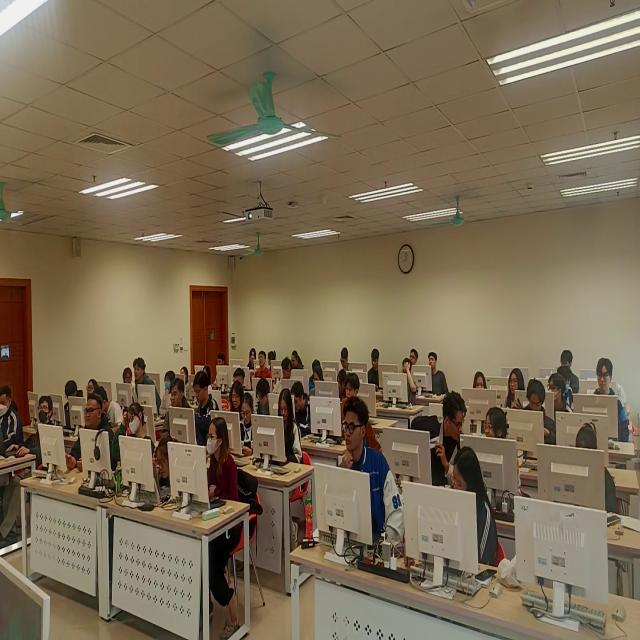raise_hand: (112, 402, 157, 490), (400, 358, 420, 412)
raise_head: (338, 397, 405, 558), (67, 393, 115, 483), (205, 417, 240, 520), (20, 393, 63, 474), (594, 358, 629, 441), (549, 373, 578, 417), (428, 352, 450, 397), (506, 369, 527, 413), (255, 351, 271, 383), (473, 371, 488, 400), (86, 375, 102, 398), (247, 347, 260, 370), (410, 348, 421, 371)
stand: (132, 355, 162, 420)
using_computer: (444, 446, 500, 567), (573, 422, 619, 526), (274, 387, 306, 469), (522, 377, 558, 445), (191, 370, 220, 441), (163, 377, 195, 441), (154, 437, 186, 500), (342, 374, 371, 435), (1, 383, 25, 454), (61, 379, 87, 431), (292, 380, 315, 437), (98, 383, 125, 426), (158, 369, 178, 418), (255, 381, 276, 426), (561, 348, 582, 392), (616, 369, 631, 425), (367, 347, 385, 392), (310, 366, 328, 404), (230, 383, 244, 428), (214, 349, 229, 387), (336, 348, 353, 374), (233, 367, 248, 394), (338, 368, 350, 400), (309, 357, 324, 382), (290, 350, 304, 373), (203, 364, 214, 385), (181, 366, 190, 384)
using_phone: (238, 395, 261, 462)
